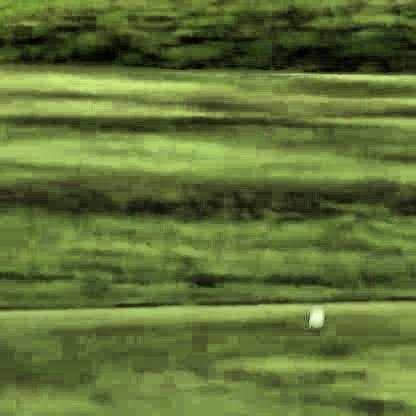golfball: (306, 299, 322, 323)
